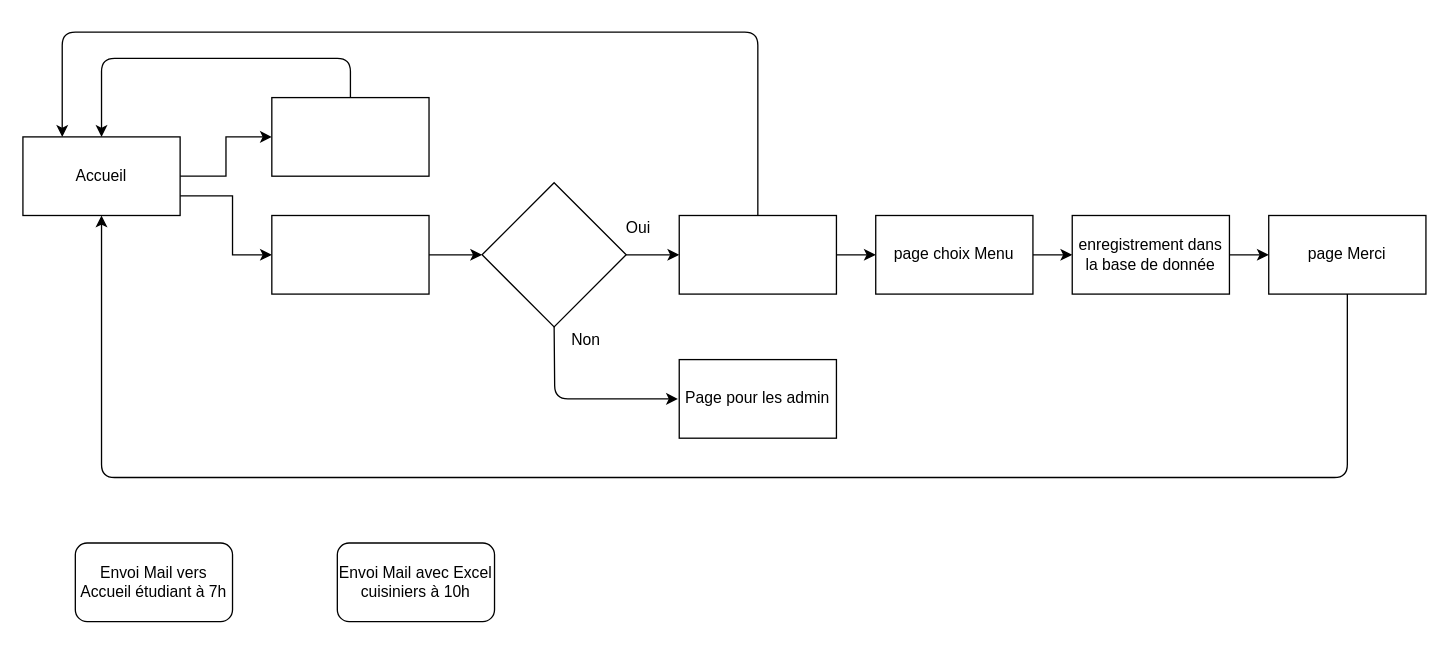
Some shapes in this 1449 by 645 pixel diagram are drawn without their labels. The shapes that lost their labels are listed below. From the top down, each one's centre as x and y in pixels, then its label:
the point at 350,136: form inscription + traitement inscription
the point at 350,254: form connexion + traitement connexion
the point at 553,254: Si étudiant
the point at 757,254: page entrée au Snack
